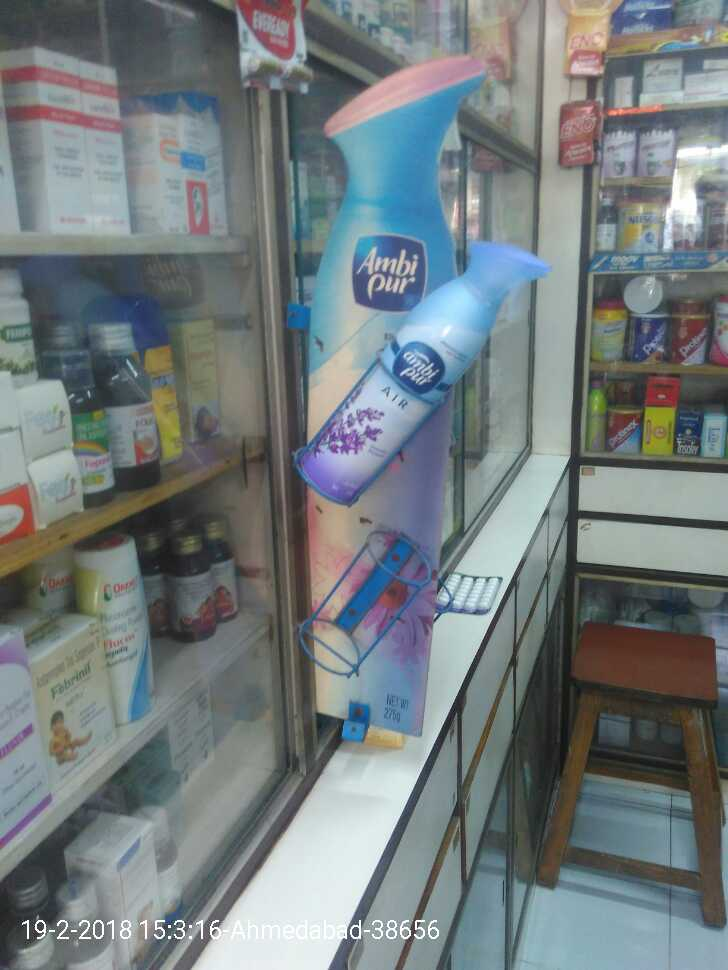ambipure: (281, 233, 555, 513)
